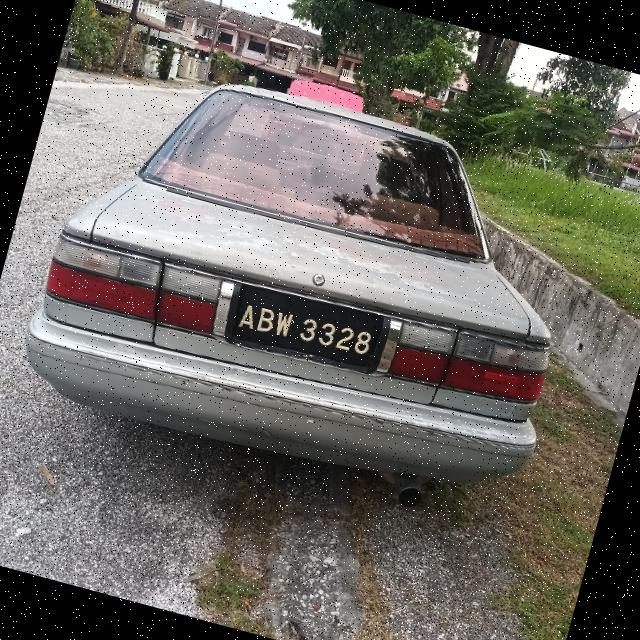License_Plate: (219, 290, 397, 384)
car: (1, 31, 617, 516)
